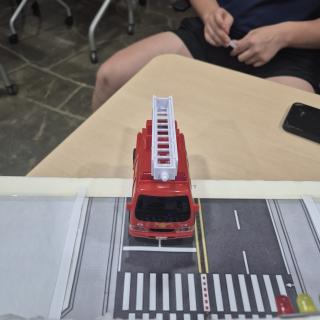Fire_truck: (126, 96, 199, 239)
